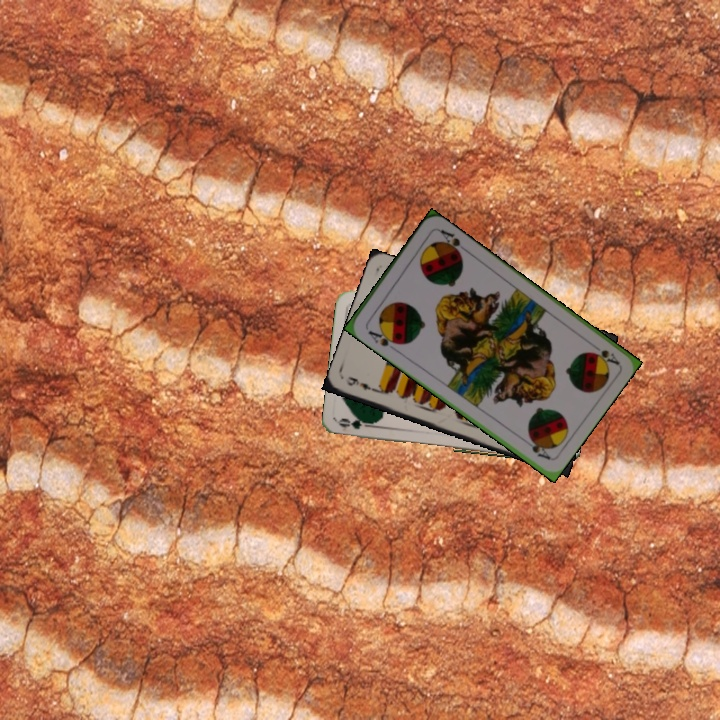E9: (341, 372, 381, 395)
GO: (336, 414, 377, 432)
SA: (586, 338, 621, 367), (364, 325, 401, 349)
